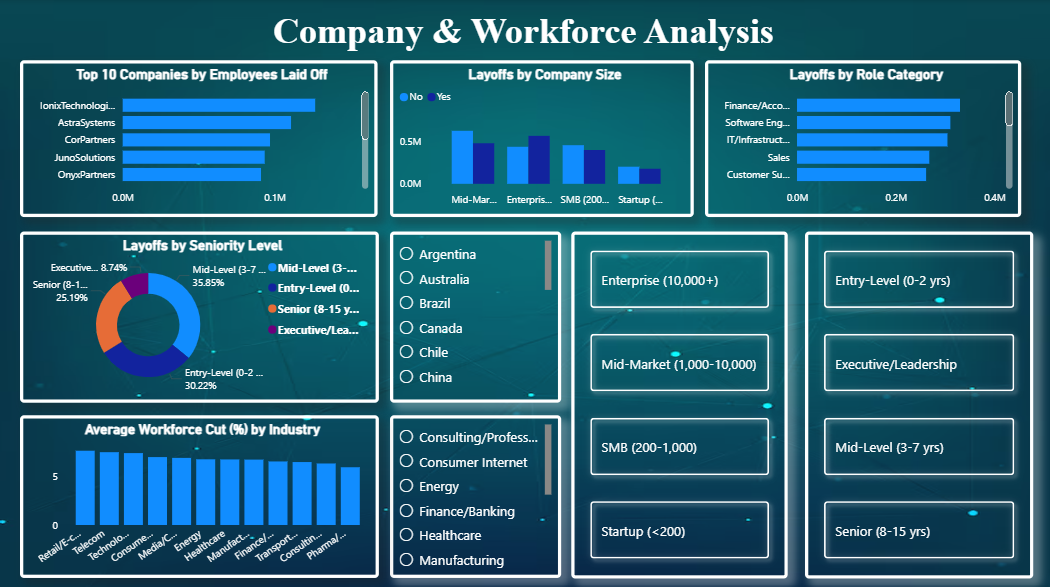

What the dashboard file says about the page in this screenshot:
{"tool":"powerbi","page":{"name":"Company & Workforce Analysis","canvas":[1280,720],"ordinal":1},"visuals":[{"type":"textbox","title":"Company & Workforce Analysis","box":[8.2,13.7,1261.1,98.8],"z":0},{"type":"clusteredColumnChart","title":"Layoffs by Company Size","fields":{"Y":["Sum(ai_job_layoffs_db ai_job_layoffs_cleaned.headcount_cut)"],"Category":["ai_job_layoffs_db ai_job_layoffs_cleaned.company_size"],"Series":["ai_job_layoffs_db ai_job_layoffs_cleaned.ai_cited_as_reason"]},"box":[475.8,74.3,370.1,191.5],"z":1000},{"type":"donutChart","title":"Layoffs by Seniority Level","fields":{"Y":["CountNonNull(ai_job_layoffs_db ai_job_layoffs_cleaned.event_id)"],"Category":["ai_job_layoffs_db ai_job_layoffs_cleaned.seniority_level"]},"box":[24.3,282.9,437.2,208.6],"z":2000},{"type":"clusteredBarChart","title":"Layoffs by Role Category","fields":{"Y":["Sum(ai_job_layoffs_db ai_job_layoffs_cleaned.headcount_cut)"],"Category":["ai_job_layoffs_db ai_job_layoffs_cleaned.role_category"]},"box":[860.2,74.3,385.8,191.5],"z":3000},{"type":"clusteredBarChart","title":"Top 10 Companies by Employees Laid Off","fields":{"Y":["Sum(ai_job_layoffs_db ai_job_layoffs_cleaned.headcount_cut)"],"Category":["ai_job_layoffs_db ai_job_layoffs_cleaned.company_name"]},"box":[24.3,74.3,435.8,191.5],"z":4000},{"type":"advancedSlicerVisual","title":"Select Year","fields":{"Values":["ai_job_layoffs_db ai_job_layoffs_cleaned.seniority_level"]},"box":[981.7,282.9,278.6,423],"z":5000},{"type":"listSlicer","fields":{"Values":["ai_job_layoffs_db ai_job_layoffs_cleaned.country"]},"box":[475.8,282.9,208.6,208.6],"z":6000},{"type":"listSlicer","fields":{"Values":["ai_job_layoffs_db ai_job_layoffs_cleaned.industry"]},"box":[475.8,507.3,208.6,198.6],"z":7000},{"type":"clusteredColumnChart","title":"Average Workforce Cut (%) by Industry","fields":{"Category":["ai_job_layoffs_db ai_job_layoffs_cleaned.industry"],"Y":["Avg(ai_job_layoffs_db ai_job_layoffs_cleaned.pct_workforce_cut)"]},"box":[24.3,507.3,437.2,198.6],"z":8000},{"type":"advancedSlicerVisual","title":"Select Year","fields":{"Values":["ai_job_layoffs_db ai_job_layoffs_cleaned.company_size"]},"box":[697.3,282.9,264.3,423],"z":9000}]}

Visuals, with their boxes in screenshot pixels (x1, y1, x2, y2), scaled from the page's 1280x720 canvas onto the 1050x587 screenshot:
"Company & Workforce Analysis" textbox: [x1=7, y1=11, x2=1041, y2=92]
"Layoffs by Company Size" clusteredColumnChart: [x1=390, y1=61, x2=694, y2=217]
"Layoffs by Seniority Level" donutChart: [x1=20, y1=231, x2=379, y2=401]
"Layoffs by Role Category" clusteredBarChart: [x1=706, y1=61, x2=1022, y2=217]
"Top 10 Companies by Employees Laid Off" clusteredBarChart: [x1=20, y1=61, x2=377, y2=217]
"Select Year" advancedSlicerVisual: [x1=805, y1=231, x2=1034, y2=576]
listSlicer - ai_job_layoffs_db ai_job_layoffs_cleaned.country: [x1=390, y1=231, x2=561, y2=401]
listSlicer - ai_job_layoffs_db ai_job_layoffs_cleaned.industry: [x1=390, y1=414, x2=561, y2=576]
"Average Workforce Cut (%) by Industry" clusteredColumnChart: [x1=20, y1=414, x2=379, y2=576]
"Select Year" advancedSlicerVisual: [x1=572, y1=231, x2=789, y2=576]
